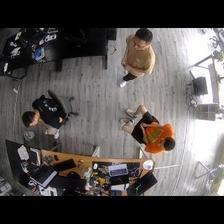normal: (118, 105, 177, 159), (21, 89, 76, 140), (118, 28, 157, 88)
